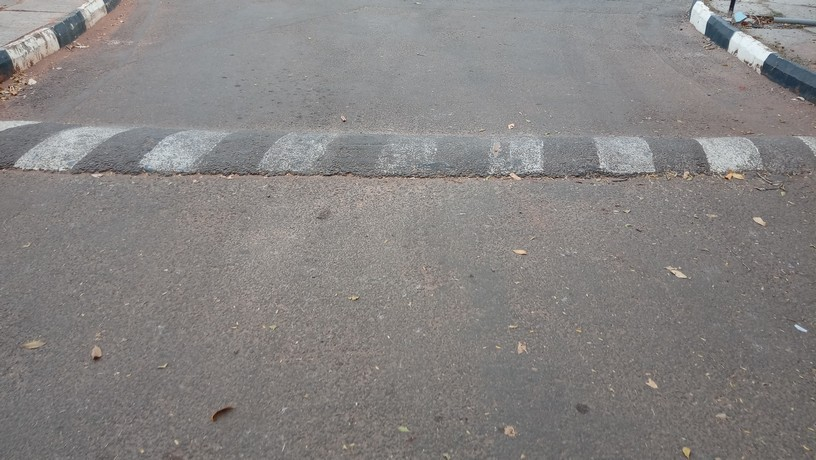bump: (1, 117, 816, 176)
